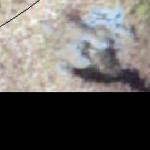alive: (1, 1, 147, 90)
